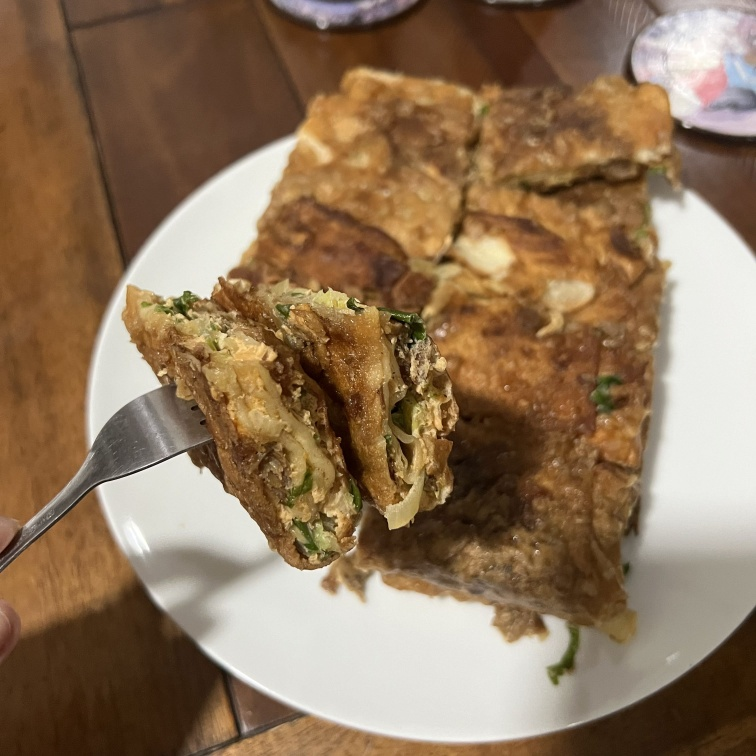martabak telor: (217, 216, 494, 497), (124, 260, 330, 574), (405, 426, 625, 652), (441, 230, 662, 440), (478, 57, 685, 199), (299, 43, 489, 167)
